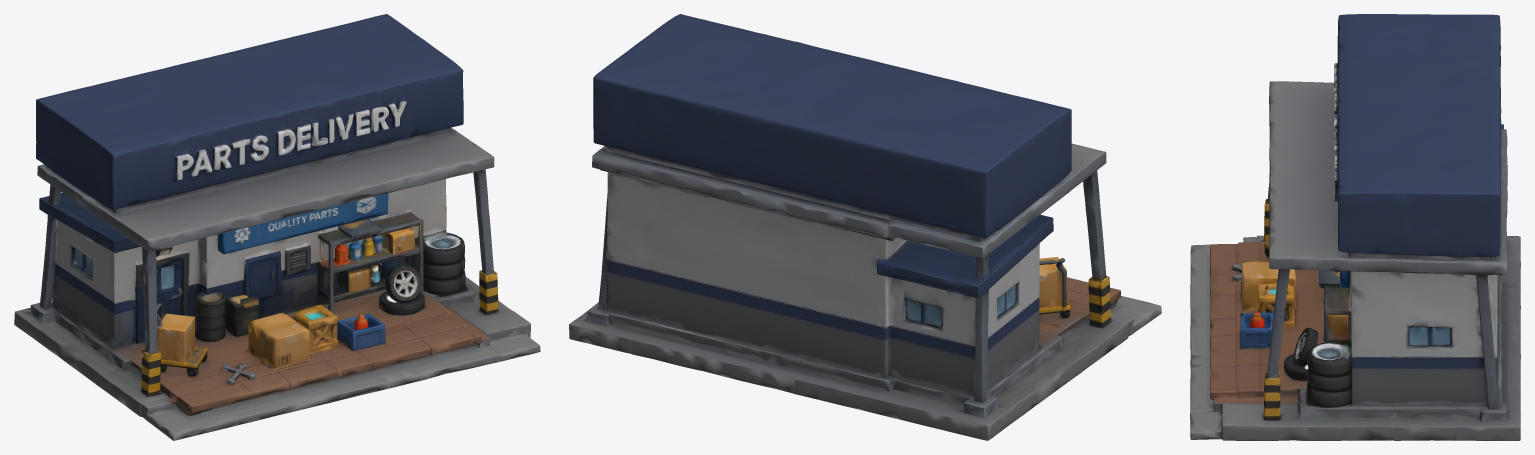
Rendered from PartsDelivery_1k_Real.glb.
3 views of the same model, side by side, from view 1: azimuth 30°, elevation 25°; view 2: azimuth 150°, elevation 25°; view 3: azimuth 270°, elevation 25° (orthographic). The views are drawn at different scales.
Visible parts, largest first — view 1: tripo_node_eb415caa-4c01-4c91-b502-d02b7f2462ac; view 2: tripo_node_eb415caa-4c01-4c91-b502-d02b7f2462ac; view 3: tripo_node_eb415caa-4c01-4c91-b502-d02b7f2462ac.
Boxes of the visible parts, <box> form: tripo_node_eb415caa-4c01-4c91-b502-d02b7f2462ac: <box>14,14,540,440</box>; tripo_node_eb415caa-4c01-4c91-b502-d02b7f2462ac: <box>569,14,1161,440</box>; tripo_node_eb415caa-4c01-4c91-b502-d02b7f2462ac: <box>1190,14,1520,440</box>.
Size of the model in its own units: 1 by 0.5968 by 0.7296.
Materials: 1 (1 with a texture image).
